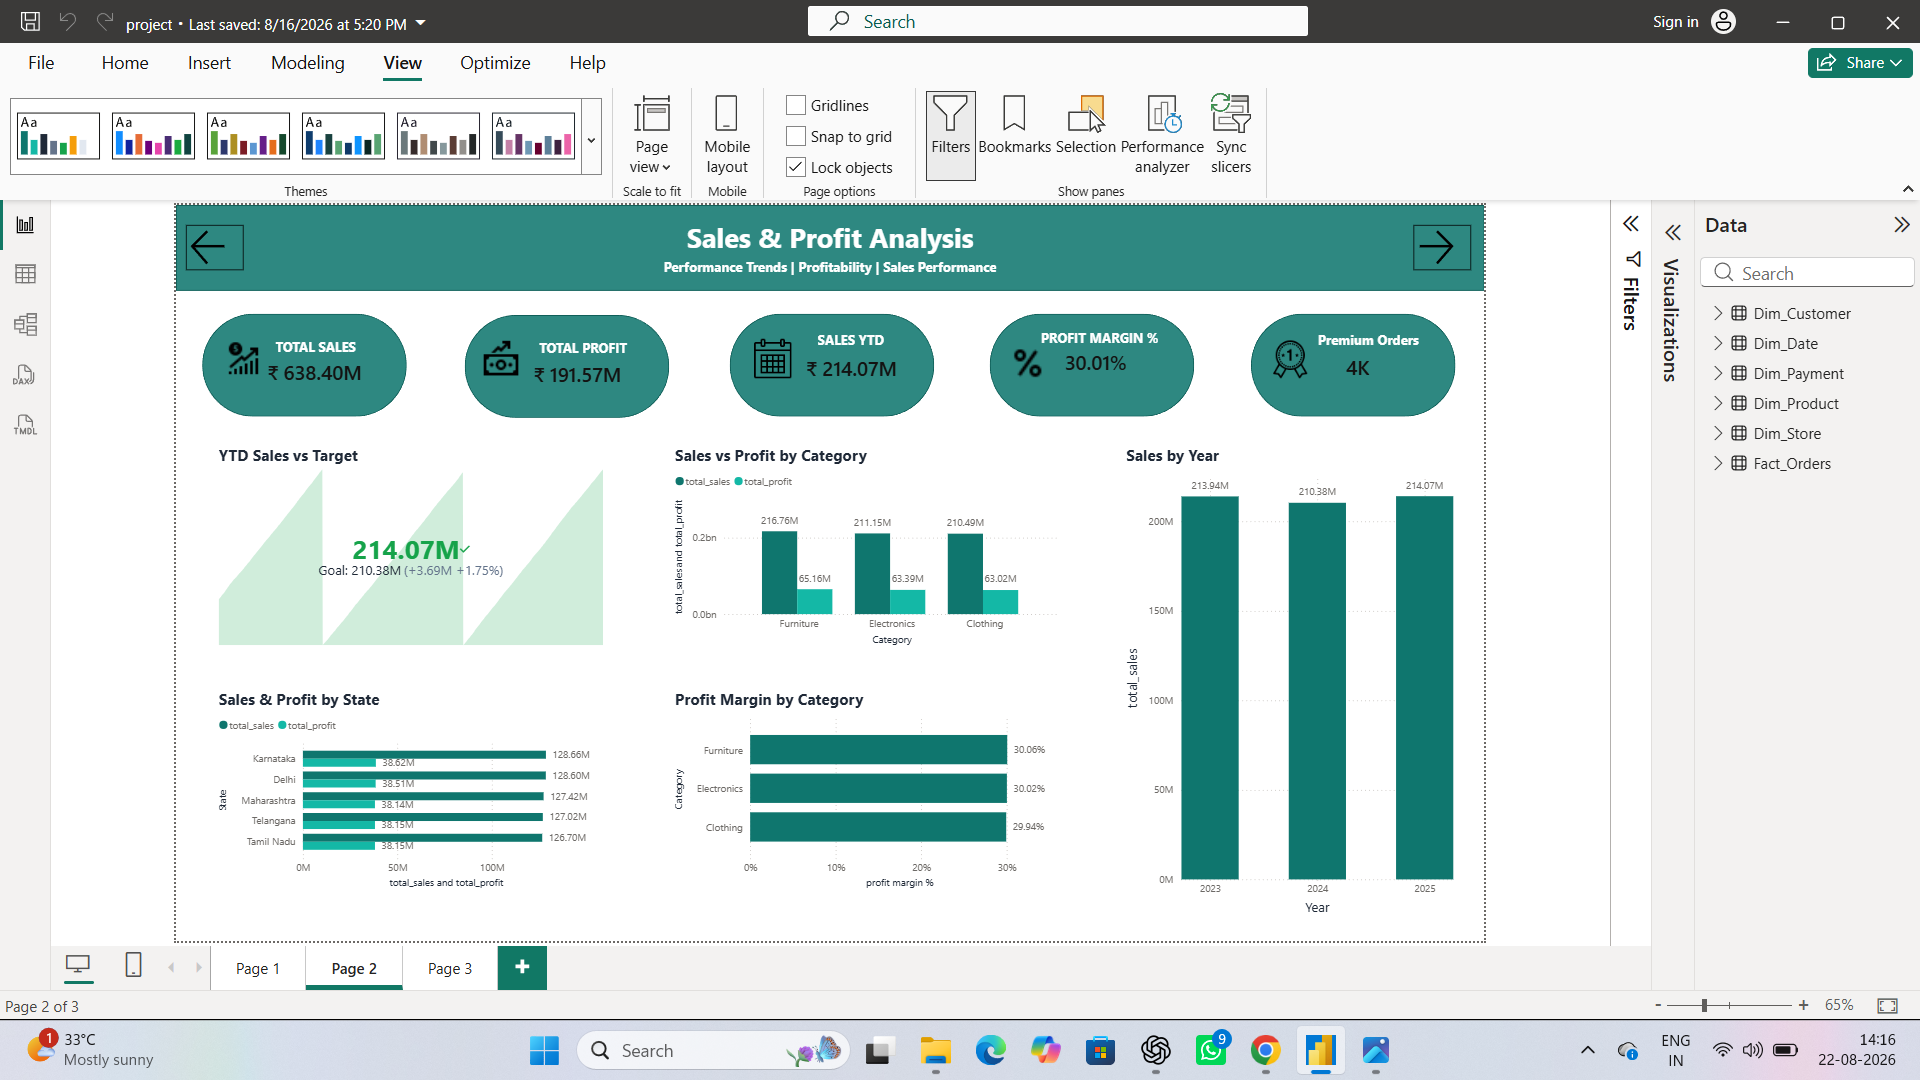

The dashboard page shown, as its layout file describes it:
{"tool":"powerbi","page":{"name":"Page 2","canvas":[1600,900],"ordinal":1},"visuals":[{"type":"shape","box":[0,0,1600,104.8],"z":0},{"type":"actionButton","box":[0,0,1600,76.4],"z":1000},{"type":"actionButton","box":[0,43.1,1600,65.5],"z":2000},{"type":"shape","box":[32.3,132.8,250,125.8],"z":3000},{"type":"cardVisual","fields":{"Data":["Fact_Orders.total_sales"]},"box":[83,159.3,200,89.3],"z":4000},{"type":"actionButton","box":[83.3,132.1,176.8,83.9],"z":5000},{"type":"shape","box":[353.2,134.7,250,125.8],"z":6000},{"type":"cardVisual","fields":{"Data":["Fact_Orders.total_profit"]},"box":[408.6,160.7,200,90.3],"z":7000},{"type":"actionButton","box":[408.9,131.7,176.7,85],"z":8000},{"type":"shape","box":[677.2,133.6,250,125.8],"z":9000},{"type":"cardVisual","fields":{"Data":["Fact_Orders.sales ytd"]},"box":[741.3,137.1,210.7,121.4],"z":10000},{"type":"actionButton","box":[698.3,119,253.6,91.1],"z":11000},{"type":"kpi","title":"YTD Sales vs Target","fields":{"Indicator":["Fact_Orders.sales ytd"],"Goal":["Fact_Orders.dates between"],"TrendLine":["Dim_Date.Date"]},"box":[47.3,292.7,480,250],"z":12000},{"type":"shape","box":[994.6,133.6,250,125.8],"z":13000},{"type":"actionButton","box":[1002.2,116.1,253.6,91.1],"z":14000},{"type":"cardVisual","fields":{"Data":["Dim_Customer.profit margin %"]},"box":[1058.1,142.5,214.5,98.2],"z":15000},{"type":"clusteredColumnChart","title":"Sales vs Profit by Category","fields":{"Category":["Dim_Product.Category"],"Y":["Fact_Orders.total_sales","Fact_Orders.total_profit"]},"box":[605.5,292.7,480,250],"z":16000},{"type":"clusteredBarChart","title":"Sales & Profit by State","fields":{"Category":["Dim_Store.State"],"Y":["Fact_Orders.total_sales","Fact_Orders.total_profit"]},"box":[47.3,590.9,480,250],"z":17000},{"type":"clusteredBarChart","title":"Profit Margin by Category","fields":{"Category":["Dim_Product.Category"],"Y":["Fact_Orders.profit margin %"]},"box":[605.5,590.9,480,250],"z":18000},{"type":"clusteredColumnChart","title":"Sales by Year","fields":{"Category":["Dim_Date.Year"],"Y":["Fact_Orders.total_sales"]},"box":[1156.4,292.7,410,580],"z":19000},{"type":"image","box":[56.5,160.7,51.8,53.6],"z":20000},{"type":"image","box":[371.4,160.3,51.8,53.6],"z":21000},{"type":"image","box":[698.5,163.9,62.5,50],"z":22000},{"type":"image","box":[1009.8,167.5,62.5,50],"z":23000},{"type":"shape","box":[1313.8,132.4,250,125.8],"z":24000},{"type":"cardVisual","fields":{"Data":["Fact_Orders.premium customer"]},"box":[1401.7,151.7,162.1,91.4],"z":25000},{"type":"actionButton","box":[1331,119,253.6,91.1],"z":26000},{"type":"image","box":[1331,163.8,62.5,50],"z":27000},{"type":"actionButton","box":[1513.8,24.1,70,55],"z":28000},{"type":"actionButton","box":[12.1,24.1,70,55],"z":28001}]}

Visuals, with their boxes on the page's 1600x900 design canvas (x1, y1, x2, y2). These are canvas units, not pixel positions in the 1920x1080 screenshot, which may show the page scaled, cropped or inside an application window:
shape: left=0, top=0, right=1600, bottom=105
actionButton: left=0, top=0, right=1600, bottom=76
actionButton: left=0, top=43, right=1600, bottom=109
shape: left=32, top=133, right=282, bottom=259
cardVisual - Fact_Orders.total_sales: left=83, top=159, right=283, bottom=249
actionButton: left=83, top=132, right=260, bottom=216
shape: left=353, top=135, right=603, bottom=260
cardVisual - Fact_Orders.total_profit: left=409, top=161, right=609, bottom=251
actionButton: left=409, top=132, right=586, bottom=217
shape: left=677, top=134, right=927, bottom=259
cardVisual - Fact_Orders.sales ytd: left=741, top=137, right=952, bottom=258
actionButton: left=698, top=119, right=952, bottom=210
"YTD Sales vs Target" kpi: left=47, top=293, right=527, bottom=543
shape: left=995, top=134, right=1245, bottom=259
actionButton: left=1002, top=116, right=1256, bottom=207
cardVisual - Dim_Customer.profit margin %: left=1058, top=142, right=1273, bottom=241
"Sales vs Profit by Category" clusteredColumnChart: left=606, top=293, right=1086, bottom=543
"Sales & Profit by State" clusteredBarChart: left=47, top=591, right=527, bottom=841
"Profit Margin by Category" clusteredBarChart: left=606, top=591, right=1086, bottom=841
"Sales by Year" clusteredColumnChart: left=1156, top=293, right=1566, bottom=873
image: left=56, top=161, right=108, bottom=214
image: left=371, top=160, right=423, bottom=214
image: left=698, top=164, right=761, bottom=214
image: left=1010, top=168, right=1072, bottom=218
shape: left=1314, top=132, right=1564, bottom=258
cardVisual - Fact_Orders.premium customer: left=1402, top=152, right=1564, bottom=243
actionButton: left=1331, top=119, right=1585, bottom=210
image: left=1331, top=164, right=1394, bottom=214
actionButton: left=1514, top=24, right=1584, bottom=79
actionButton: left=12, top=24, right=82, bottom=79
